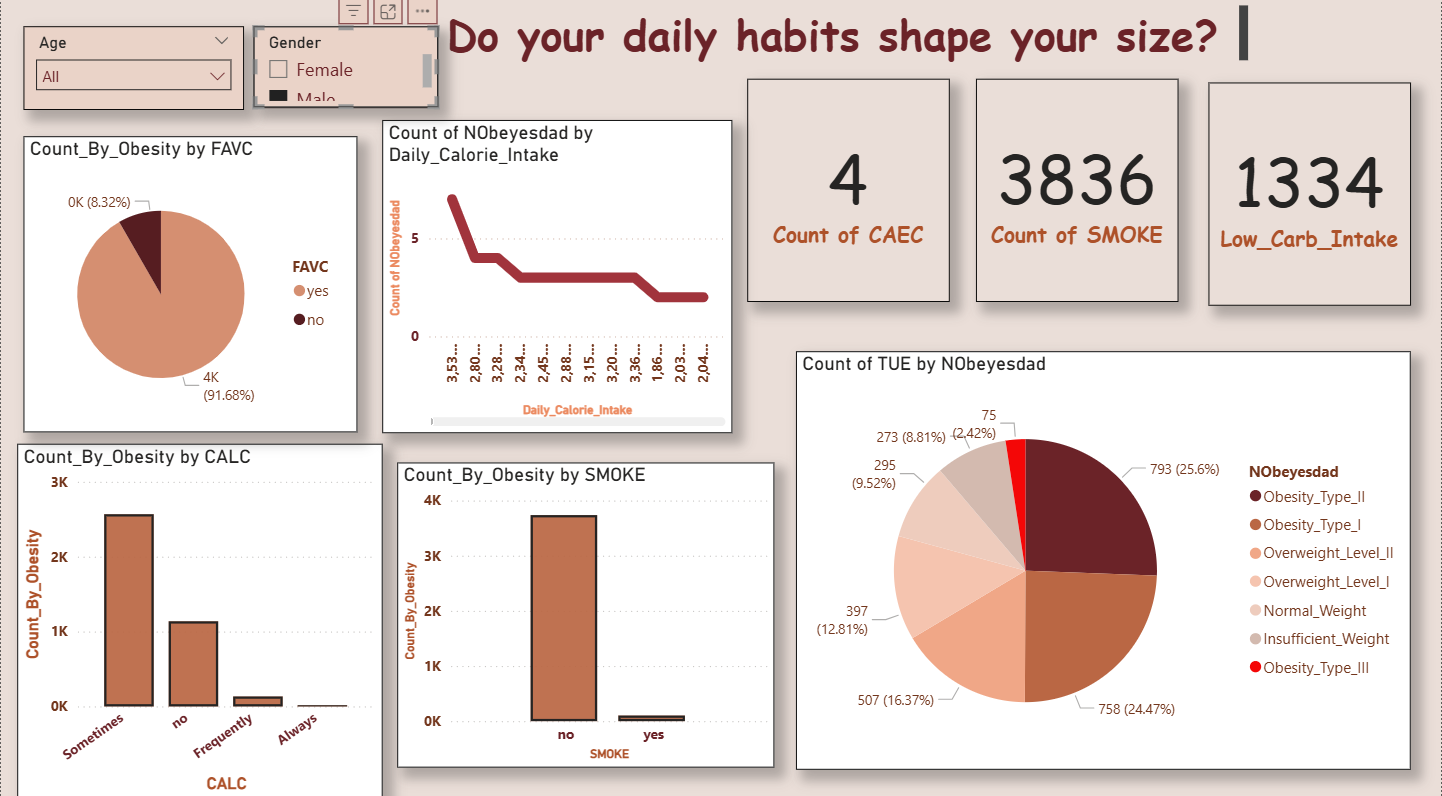

This screenshot's page, from the dashboard's own definition file:
{"tool":"powerbi","page":{"name":"report 4","canvas":[1280,720],"ordinal":3},"visuals":[{"type":"card","fields":{"Values":["CountNonNull(ObesityDataSet_clean.SMOKE)"]},"box":[867.1,70,180,198.6],"z":0},{"type":"textbox","box":[373.3,0,740,60],"z":1000},{"type":"card","fields":{"Values":["ObesityDataSet_clean.Low_Carb_Intake"]},"box":[1072.9,72.9,180,198.6],"z":2000},{"type":"card","fields":{"Values":["Count(ObesityDataSet_clean.CAEC)"]},"box":[662.9,70,180,198.6],"z":3000},{"type":"lineClusteredColumnComboChart","fields":{"Y":["ObesityDataSet_clean.Count_By_Obesity"],"Category":["ObesityDataSet_clean.CALC"]},"box":[14.4,394.4,324.4,316.7],"z":4000},{"type":"slicer","fields":{"Values":["ObesityDataSet_clean.Gender"]},"box":[224.3,22.9,164.3,72.9],"z":5000},{"type":"slicer","fields":{"Values":["ObesityDataSet_clean.Age"]},"box":[20,22.9,195.7,74.3],"z":6000},{"type":"pieChart","fields":{"Category":["ObesityDataSet_clean.FAVC"],"Y":["ObesityDataSet_clean.Count_By_Obesity"]},"box":[20,121.4,297.1,262.9],"z":7000},{"type":"pieChart","fields":{"Y":["Count(ObesityDataSet_clean.TUE)"],"Category":["ObesityDataSet_clean.NObeyesdad"]},"box":[706.7,311.7,546.7,371.7],"z":8000},{"type":"lineChart","fields":{"Category":["ObesityDataSet_clean.Daily_Calorie_Intake"],"Y":["Count(ObesityDataSet_clean.NObeyesdad)"]},"box":[338.6,107.1,311.4,278.6],"z":9000},{"type":"lineClusteredColumnComboChart","fields":{"Y":["ObesityDataSet_clean.Count_By_Obesity"],"Category":["ObesityDataSet_clean.SMOKE"]},"box":[352.2,411.1,335.6,271.1],"z":9001}]}

Visuals, with their boxes in screenshot pixels (x1, y1, x2, y2):
card - CountNonNull(ObesityDataSet_clean.SMOKE): x1=973, y1=75, x2=1176, y2=300
textbox: x1=415, y1=0, x2=1251, y2=64
card - ObesityDataSet_clean.Low_Carb_Intake: x1=1205, y1=79, x2=1409, y2=303
card - Count(ObesityDataSet_clean.CAEC): x1=742, y1=75, x2=945, y2=300
lineClusteredColumnComboChart - ObesityDataSet_clean.Count_By_Obesity x ObesityDataSet_clean.CALC: x1=9, y1=442, x2=375, y2=795
slicer - ObesityDataSet_clean.Gender: x1=246, y1=22, x2=432, y2=105
slicer - ObesityDataSet_clean.Age: x1=15, y1=22, x2=236, y2=106
pieChart - ObesityDataSet_clean.FAVC x ObesityDataSet_clean.Count_By_Obesity: x1=15, y1=133, x2=351, y2=431
pieChart - Count(ObesityDataSet_clean.TUE) x ObesityDataSet_clean.NObeyesdad: x1=791, y1=349, x2=1409, y2=769
lineChart - ObesityDataSet_clean.Daily_Calorie_Intake x Count(ObesityDataSet_clean.NObeyesdad): x1=375, y1=117, x2=727, y2=432
lineClusteredColumnComboChart - ObesityDataSet_clean.Count_By_Obesity x ObesityDataSet_clean.SMOKE: x1=391, y1=461, x2=770, y2=767
